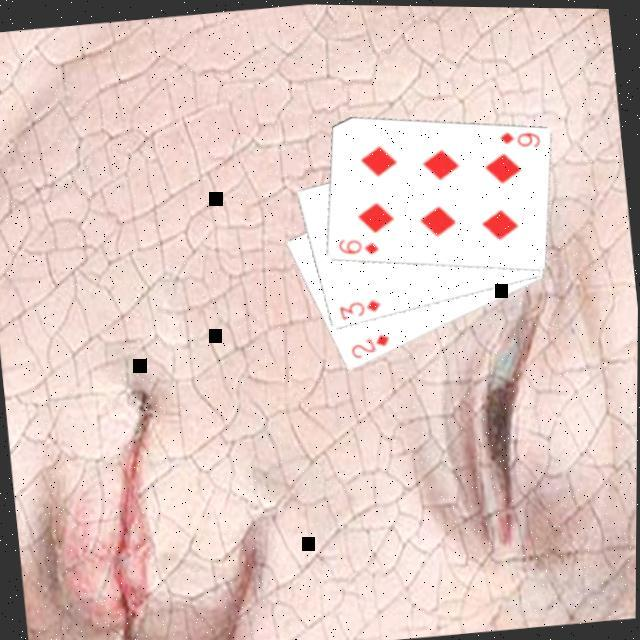2D: (347, 326, 396, 362)
3D: (336, 292, 386, 322)
6D: (496, 122, 544, 152), (335, 230, 383, 258)
